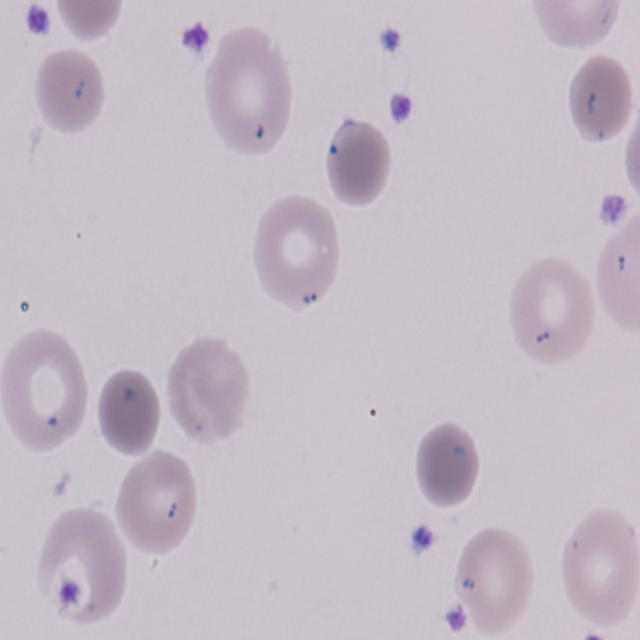RBC: (10, 486, 136, 640), (200, 28, 296, 158), (0, 328, 92, 452), (248, 192, 342, 312), (556, 501, 640, 631), (504, 255, 596, 372), (162, 339, 255, 449), (112, 451, 202, 558), (453, 526, 538, 639), (31, 46, 110, 140), (593, 210, 640, 336), (526, 0, 628, 55), (50, 0, 132, 42), (621, 88, 640, 211)
Spherocyte: (412, 416, 483, 512), (566, 50, 634, 147), (324, 118, 392, 208), (96, 367, 162, 458)
